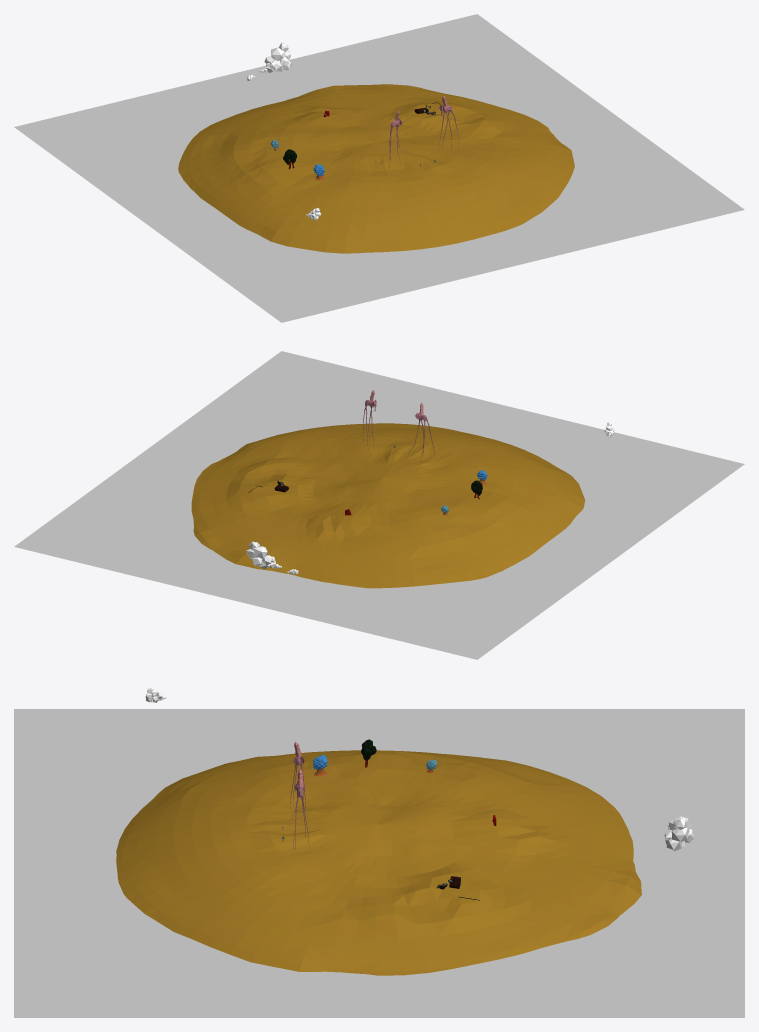
Rendered from completa.obj.
3 renders of one model, top to bottom at view 1: azimuth 30°, elevation 25°; view 2: azimuth 150°, elevation 25°; view 3: azimuth 270°, elevation 25°, orthographic. The views are drawn at different scales.
Parts seen in each view (by area): view 1: AAA_Terrein_limit_underwater_Plane.010, AAA_Terrain_Plane.009, NUVOLE_Icosphere.000, OPERA2_Cube.000; view 2: AAA_Terrein_limit_underwater_Plane.010, AAA_Terrain_Plane.009, NUVOLE_Icosphere.000, OPERA2_Cube.000; view 3: AAA_Terrein_limit_underwater_Plane.010, AAA_Terrain_Plane.009, NUVOLE_Icosphere.000, OPERA2_Cube.000, OPERA4_Icosphere.017.
Boxes of the visible parts, x1=… form: AAA_Terrein_limit_underwater_Plane.010: x1=14, y1=14, x2=744, y2=322; AAA_Terrain_Plane.009: x1=178, y1=84, x2=574, y2=253; NUVOLE_Icosphere.000: x1=247, y1=42, x2=321, y2=220; OPERA2_Cube.000: x1=389, y1=95, x2=458, y2=168; AAA_Terrein_limit_underwater_Plane.010: x1=14, y1=351, x2=744, y2=659; AAA_Terrain_Plane.009: x1=191, y1=423, x2=585, y2=588; NUVOLE_Icosphere.000: x1=246, y1=422, x2=614, y2=574; OPERA2_Cube.000: x1=363, y1=390, x2=434, y2=460; AAA_Terrein_limit_underwater_Plane.010: x1=14, y1=709, x2=744, y2=1017; AAA_Terrain_Plane.009: x1=116, y1=750, x2=641, y2=975; NUVOLE_Icosphere.000: x1=145, y1=688, x2=694, y2=851; OPERA2_Cube.000: x1=281, y1=742, x2=309, y2=849; OPERA4_Icosphere.017: x1=313, y1=739, x2=437, y2=776.
Size of the model in its own units: 200 by 36.63 by 200.
